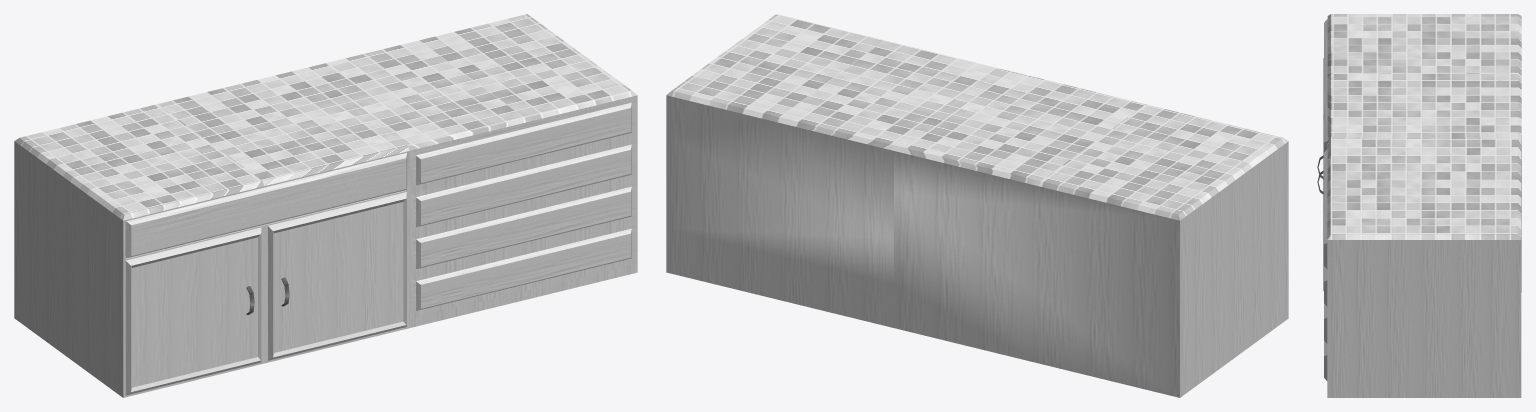
Rendered from Open_Kitchencounter_C.FBX.
3 views of the same model, side by side, from view 1: azimuth 30°, elevation 25°; view 2: azimuth 150°, elevation 25°; view 3: azimuth 270°, elevation 25° (orthographic). The views are drawn at different scales.
Visible parts, largest first — view 1: Open_Counter_A001, Door_ R_005, Door_ R_004, Drawer001, Drawer_B002, Drawer_A002, Drawer_C001, Drawer_D001; view 2: Open_Counter_A001; view 3: Open_Counter_A001, Drawer001, Drawer_A002, Door_ R_005.
Boxes of the visible parts, box(x1,y1,x2,y2) form: Open_Counter_A001: box(14, 14, 637, 397); Door_ R_005: box(268, 192, 406, 360); Door_ R_004: box(125, 227, 261, 395); Drawer001: box(125, 153, 407, 258); Drawer_B002: box(416, 144, 631, 227); Drawer_A002: box(416, 102, 631, 185); Drawer_C001: box(416, 186, 631, 268); Drawer_D001: box(416, 228, 631, 310); Open_Counter_A001: box(666, 14, 1288, 397); Open_Counter_A001: box(1327, 14, 1521, 397); Drawer001: box(1324, 19, 1327, 152); Drawer_A002: box(1324, 149, 1327, 268); Door_ R_005: box(1317, 120, 1323, 290).
Size of the model in its own units: 410 by 138 by 158.
